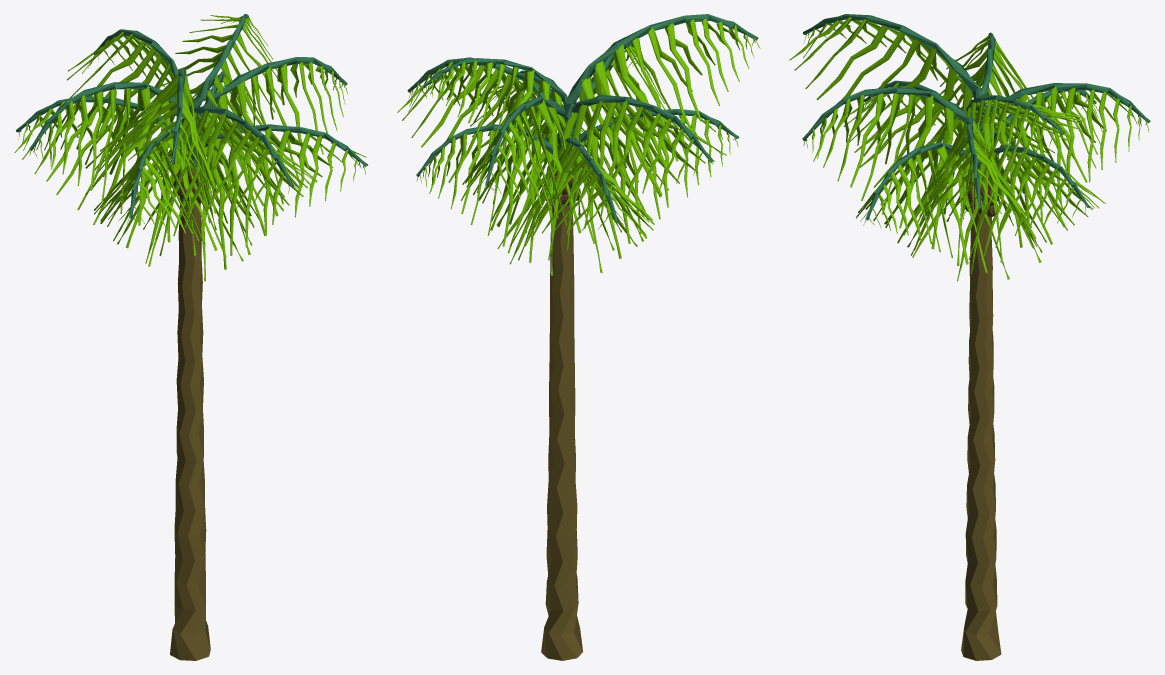
The model's file is PALMA.glb.
3 views of the same model, side by side, from view 1: azimuth 30°, elevation 25°; view 2: azimuth 150°, elevation 25°; view 3: azimuth 270°, elevation 25° (orthographic). The views are drawn at different scales.
Parts seen in each view (by area): view 1: polySurface67; view 2: polySurface67; view 3: polySurface67.
Boxes of the visible parts, x1,y1,x2,y2 form: polySurface67: (14,14,367,660); polySurface67: (397,14,760,660); polySurface67: (789,14,1150,660).
Bounding box in the file's own units: 24.57 × 46.34 × 25.11.
